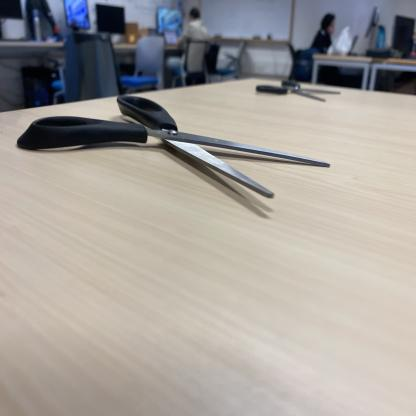scissors: (17, 91, 330, 200), (257, 77, 343, 103)
